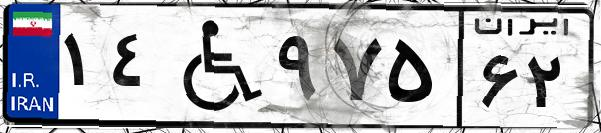1: (57, 26, 110, 100)
2: (525, 38, 570, 115)
4: (110, 28, 158, 98)
5: (385, 28, 445, 110)
6: (475, 38, 525, 113)
7: (330, 28, 385, 110)
9: (270, 28, 330, 110)
ژ (معلولین و جانبازان): (158, 12, 270, 120)
